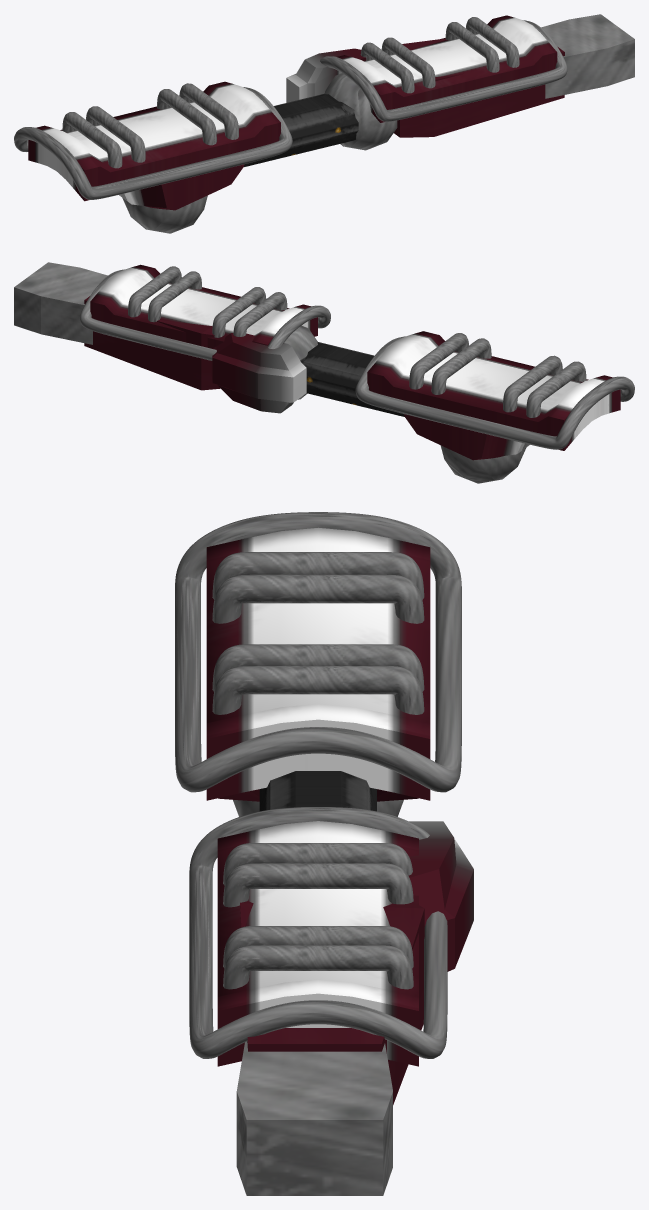
File: Robot 8 L arm.fbx
3 renders of one model, top to bottom at view 1: azimuth 30°, elevation 25°; view 2: azimuth 150°, elevation 25°; view 3: azimuth 270°, elevation 25°, orthographic. The views are drawn at different scales.
Visible parts, largest first — view 1: Icosphere.005, Icosphere.007, Cube.031; view 2: Icosphere.005, Icosphere.007, Cube.031; view 3: Icosphere.005, Icosphere.007, Cube.031.
Part boxes in pixels (x1,y1,x2,y2): Icosphere.005: [14, 81, 358, 233]; Icosphere.007: [286, 15, 567, 150]; Cube.031: [541, 14, 634, 98]; Icosphere.005: [300, 331, 634, 483]; Icosphere.007: [79, 264, 330, 413]; Cube.031: [14, 262, 107, 344]; Icosphere.005: [175, 512, 461, 816]; Icosphere.007: [189, 807, 473, 1104]; Cube.031: [236, 1041, 392, 1195].
Bounding box in the file's own units: 669 × 133 × 151.
